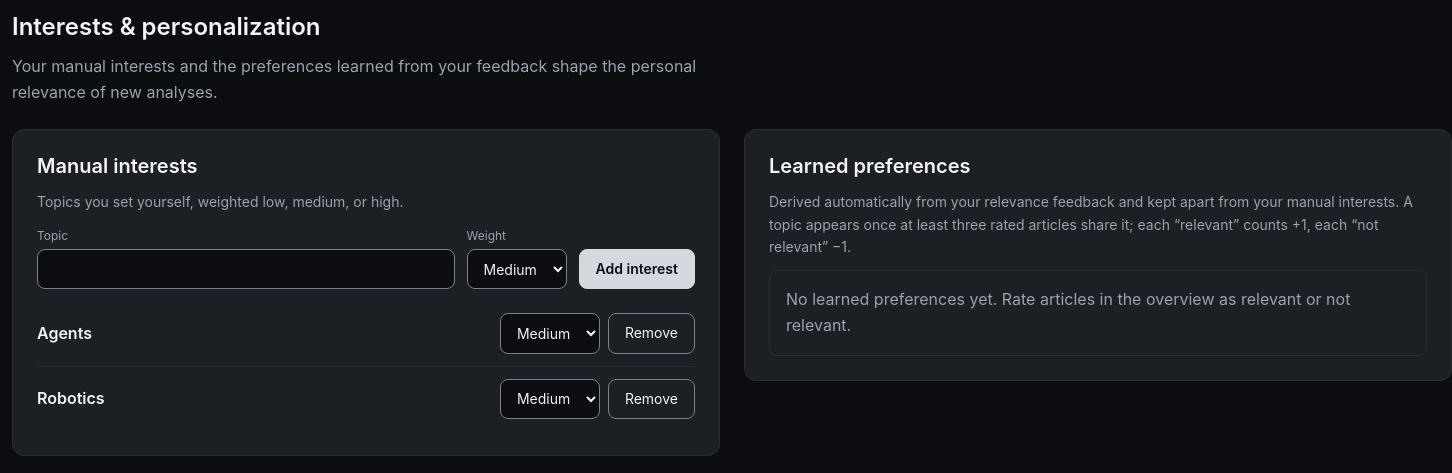
Test case: manual interests › removes an interest and moves focus to the section heading
Expected: the text "Agents" is shown, [37,322,92,342]
Click the button named "Remove “Agents”" at (651, 333), box [608,313,695,354]
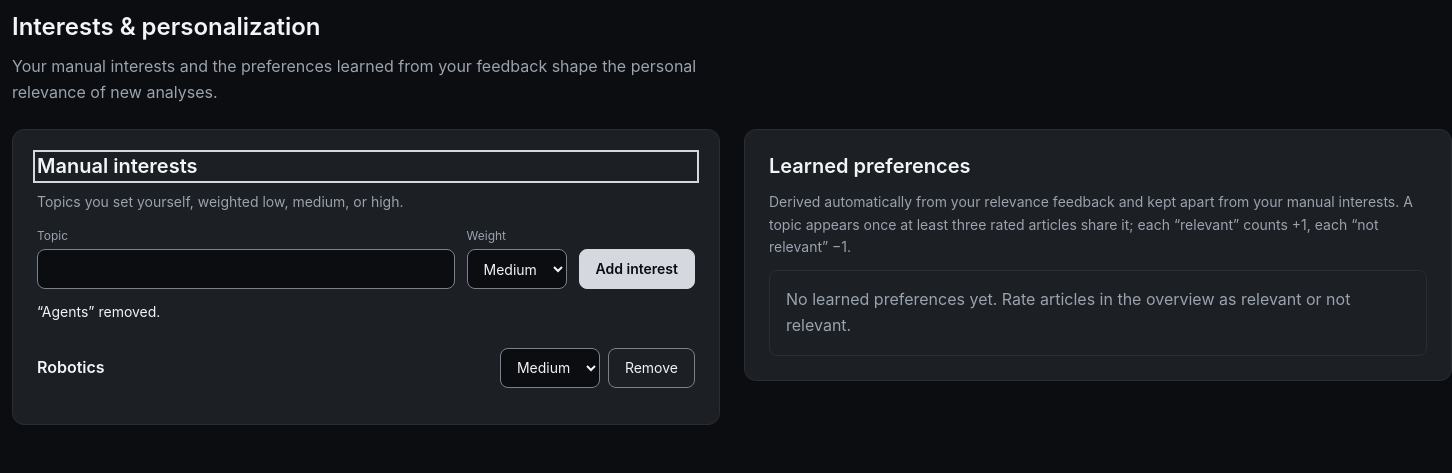
Expected: the text "Robotics" is shown, [37,357,105,377]
Expected: the text "“Agents” removed." is shown, [37,303,160,320]
